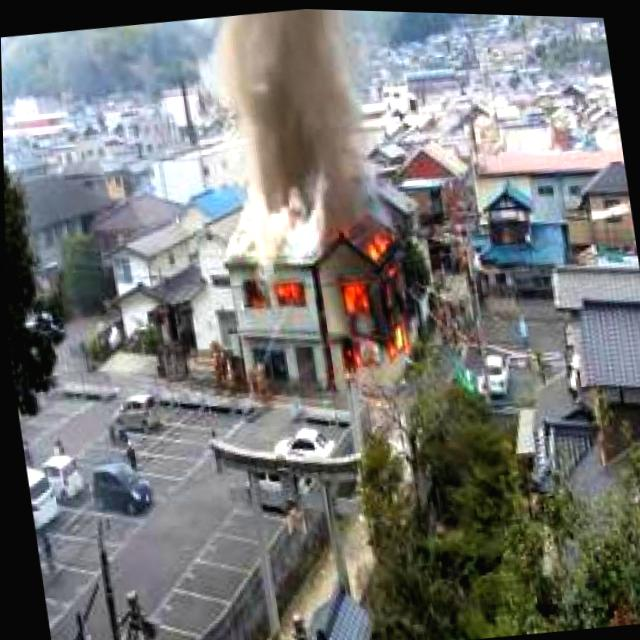Fire: (334, 229, 415, 371), (263, 277, 313, 312)
Smoke: (205, 5, 376, 231)
